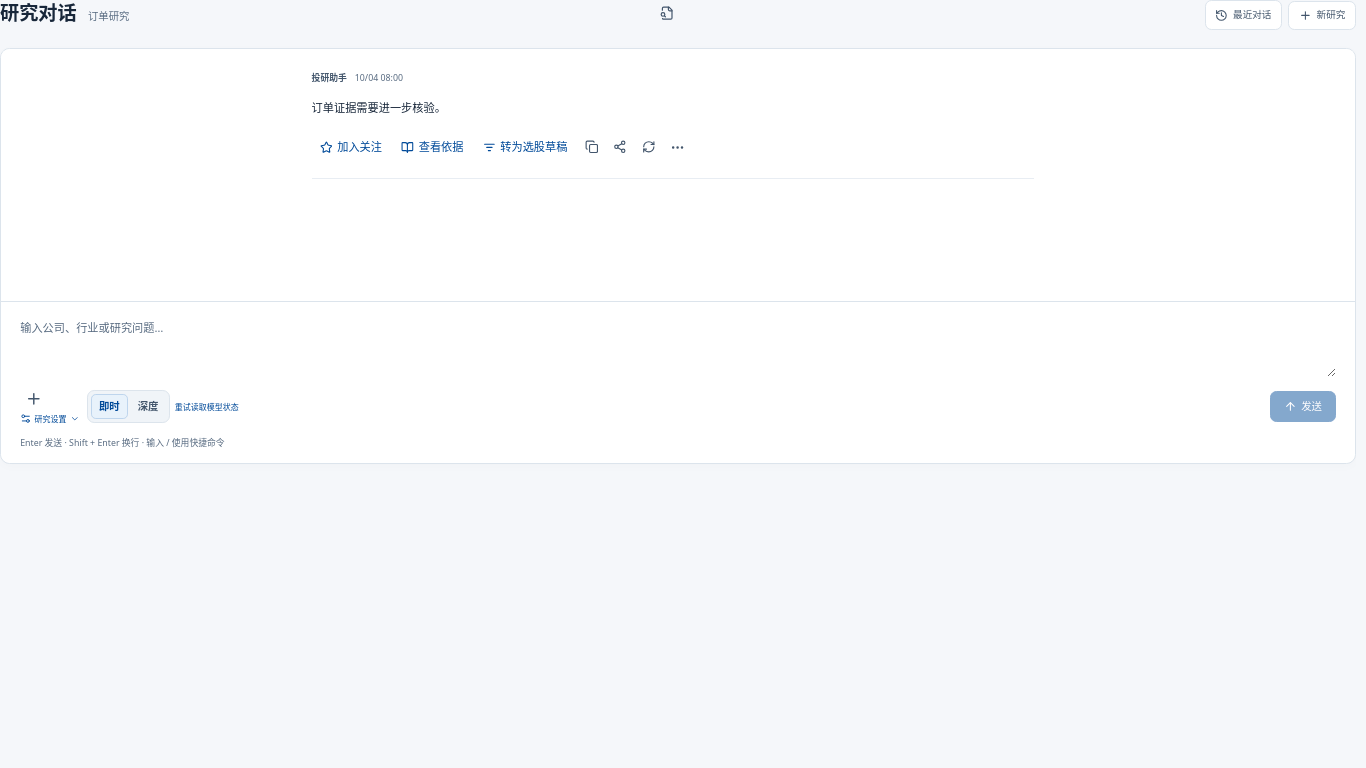
Test case: adds a user-selected research candidate with validation notes and an answer source
Click the button "加入关注" at (351, 147), box [312,133,390,162]
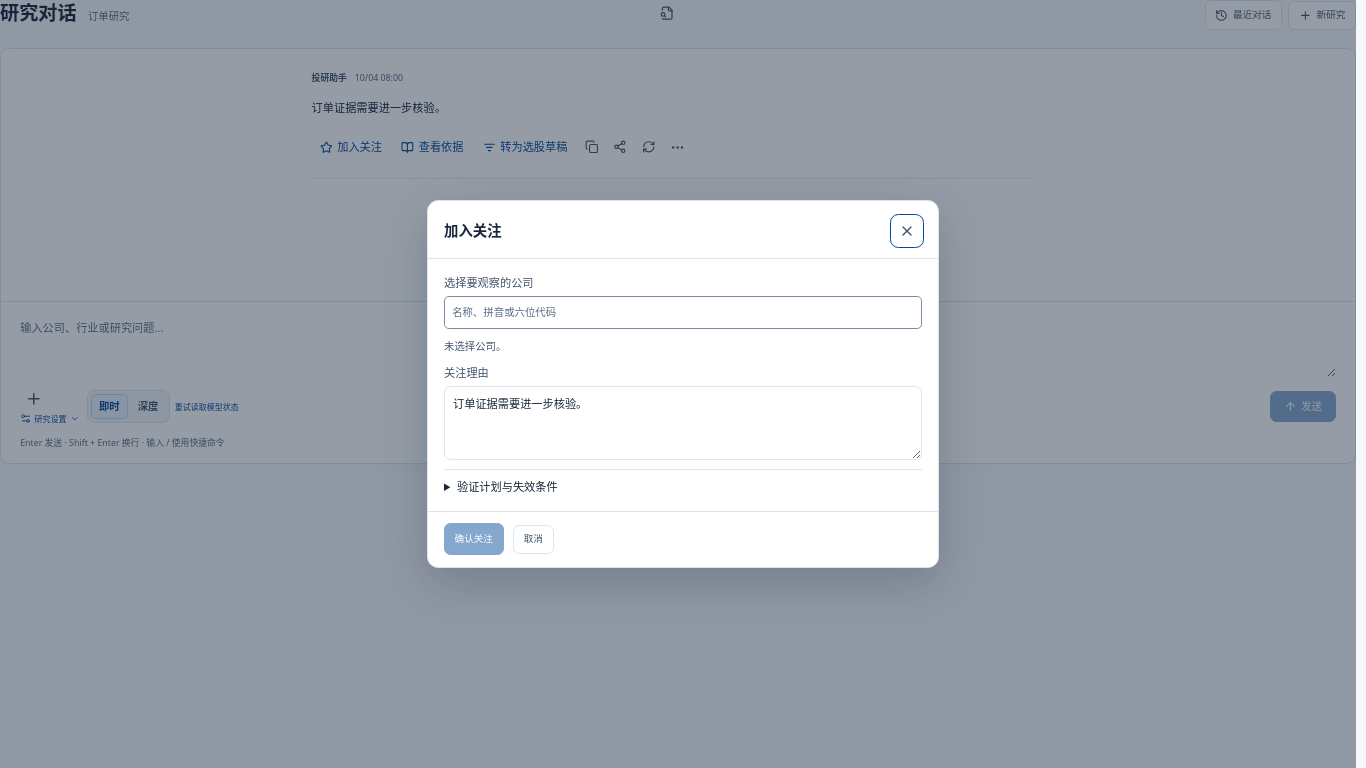
Check: the button "确认关注" is disabled, box [444,523,504,555]
Type "600000.sh" into the dropdown named "观察候选股票代码" at (683, 312), box [444,296,922,328]
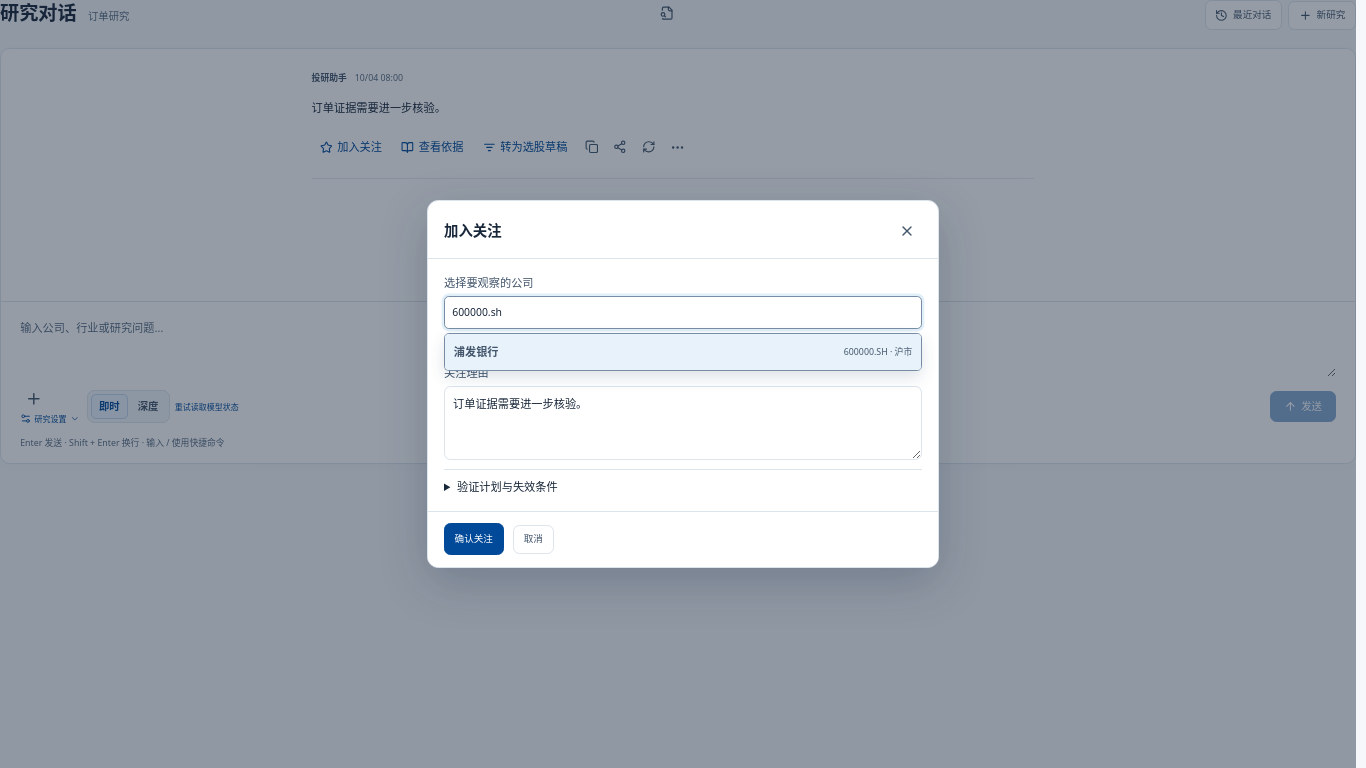
Click the option "浦发银行 600000.SH · 沪市" at (476, 352), box [445,334,921,370]
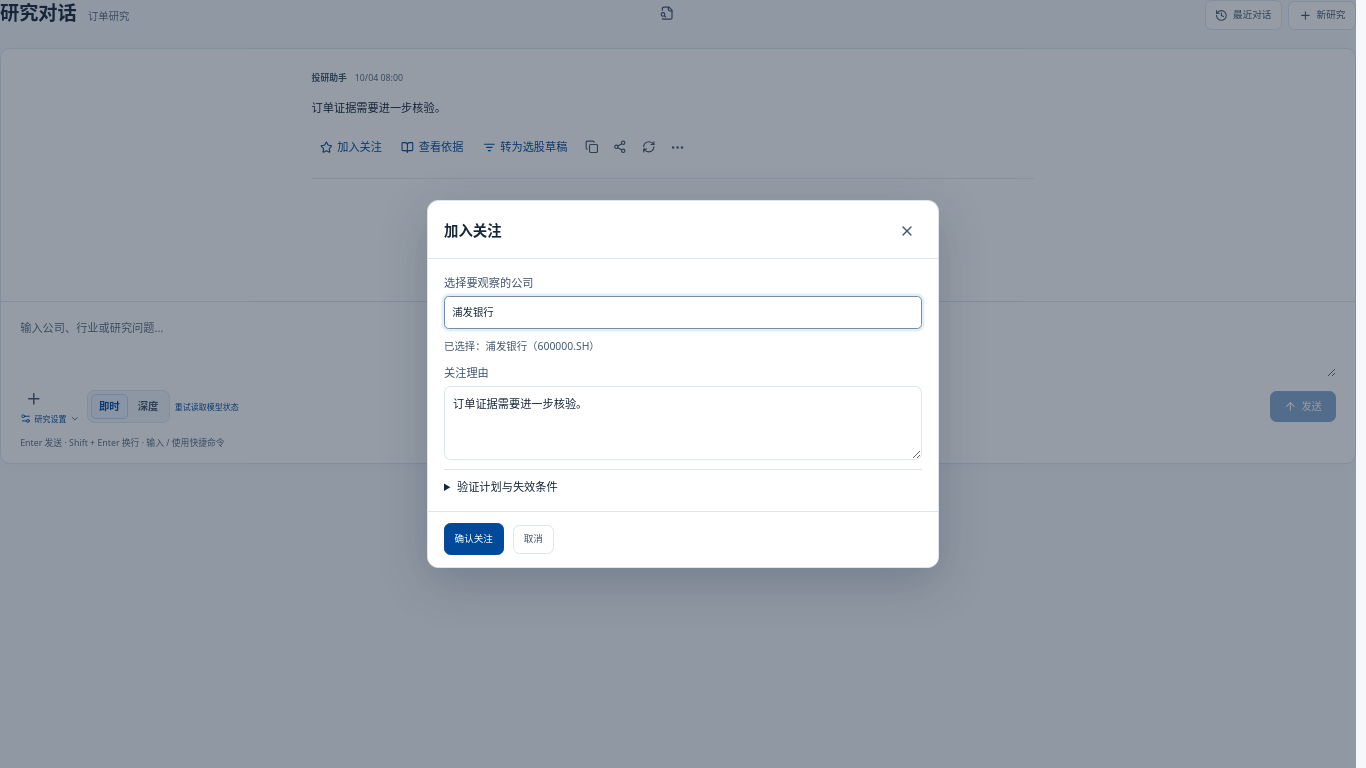
Click the heading "验证计划与失效条件" at (507, 487), box [457,479,558,494]
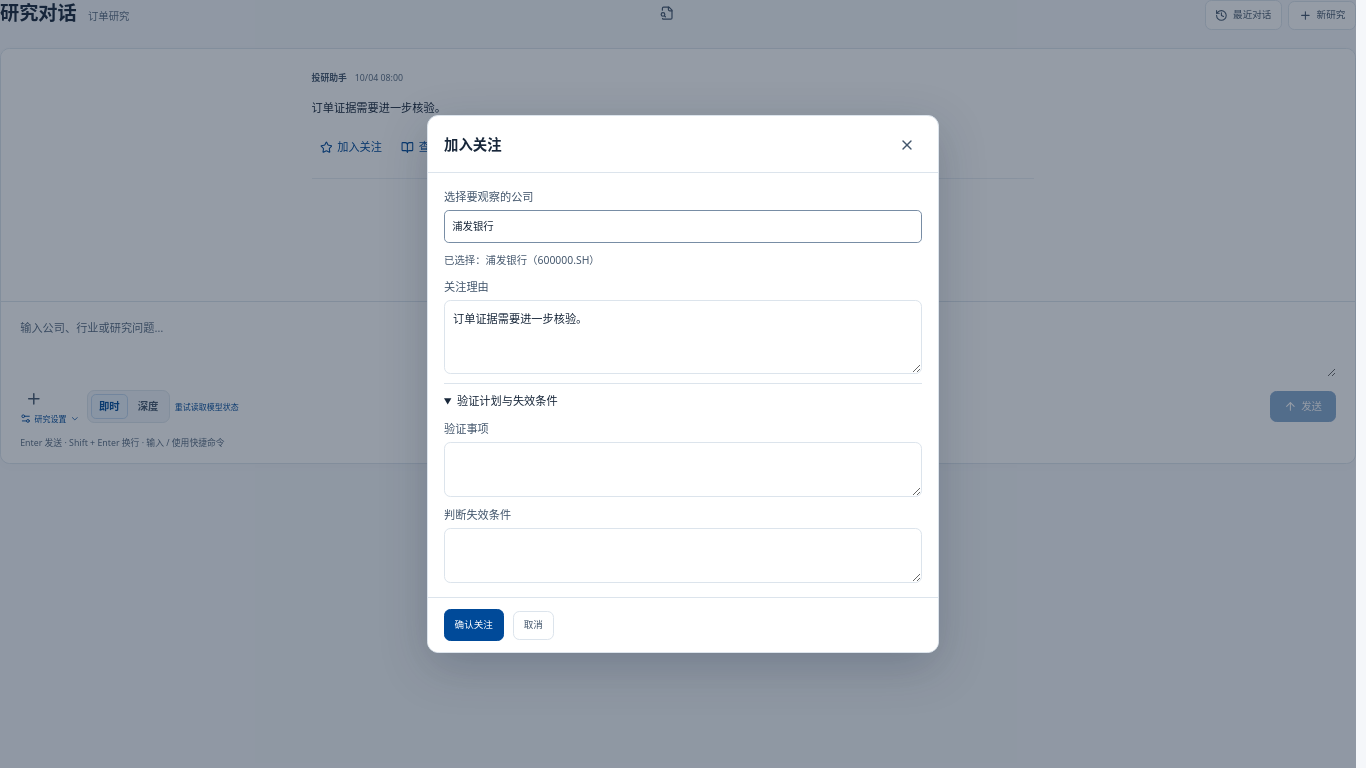
Type "下一季核对收入兑现" into the text box named "观察候选验证事项" at (683, 470), box [444,442,922,497]
Type "订单取消" into the text box named "观察候选失效条件" at (683, 556), box [444,528,922,583]
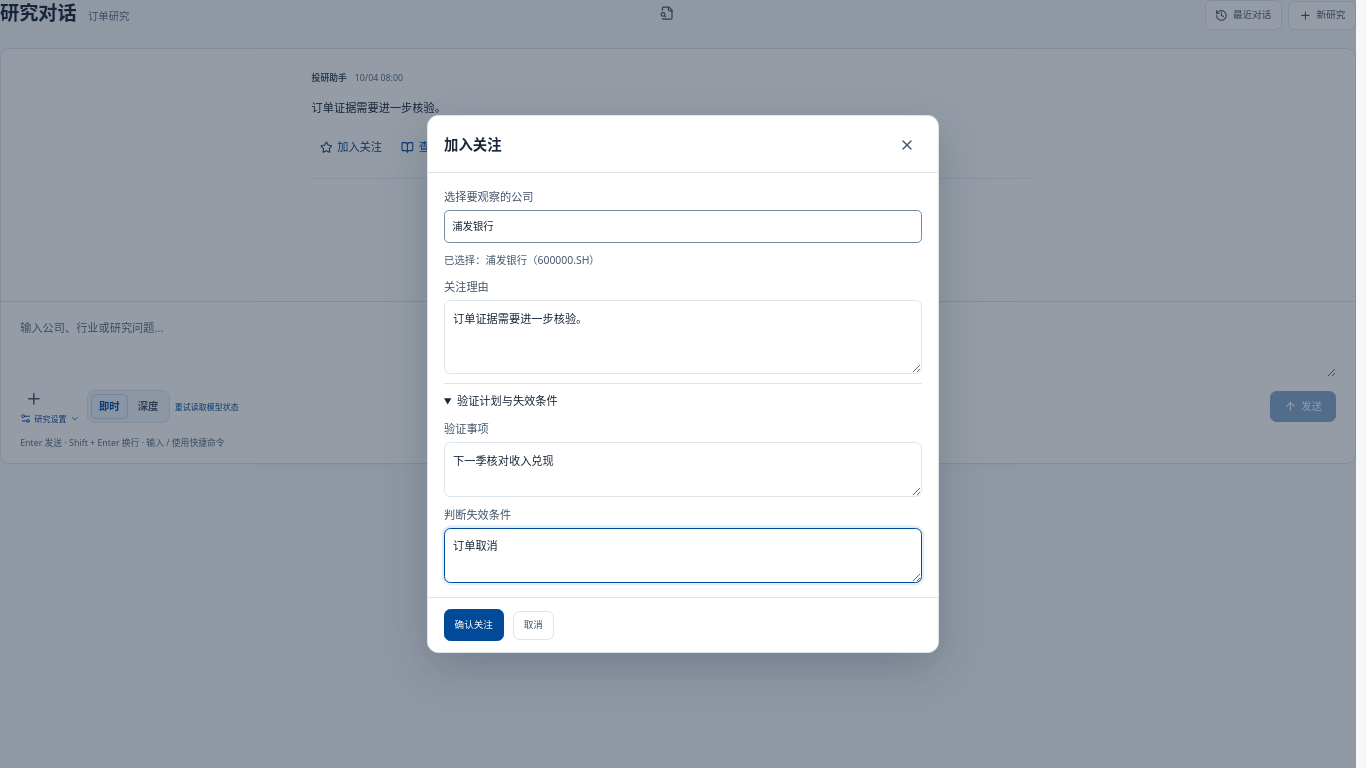
Click the button "确认关注" at (474, 625), box [444,609,504,641]
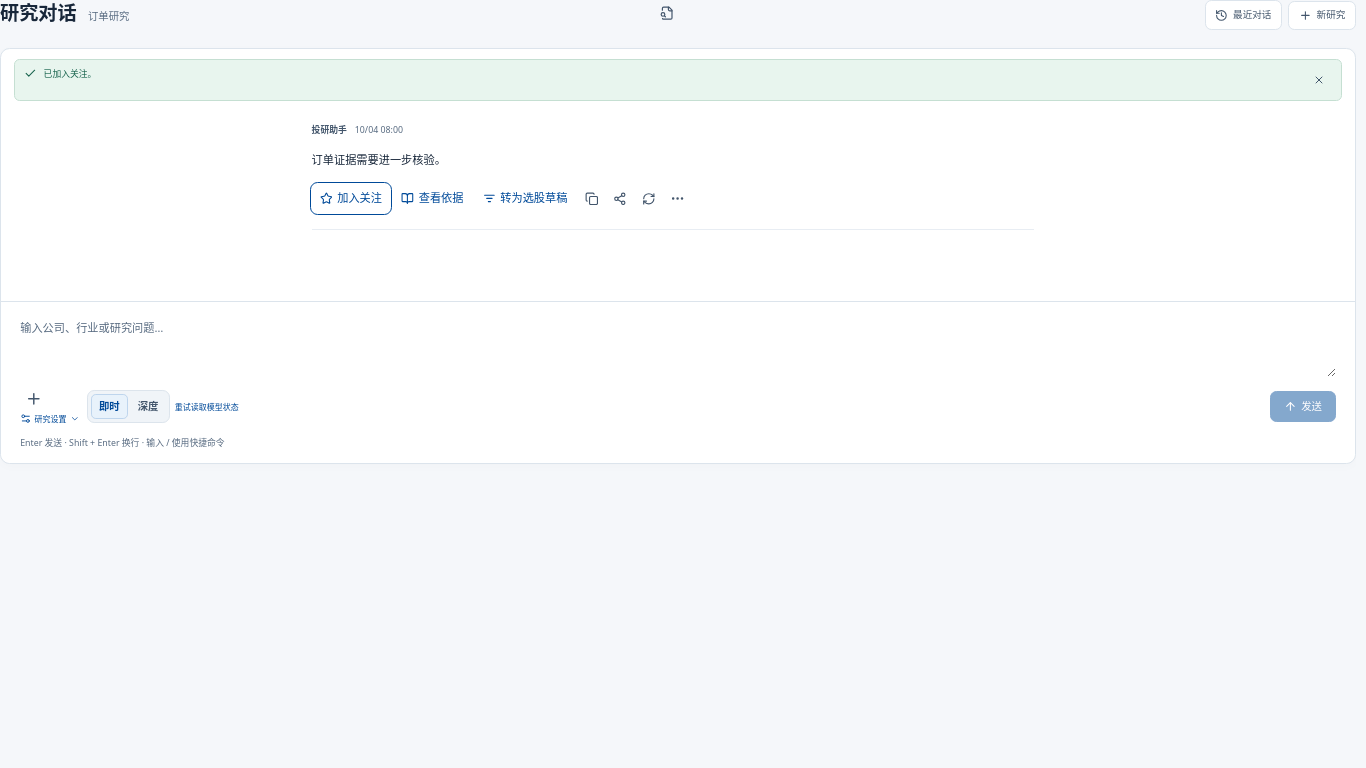
Check: the text "已加入关注。" is shown, box [44,68,96,80]
